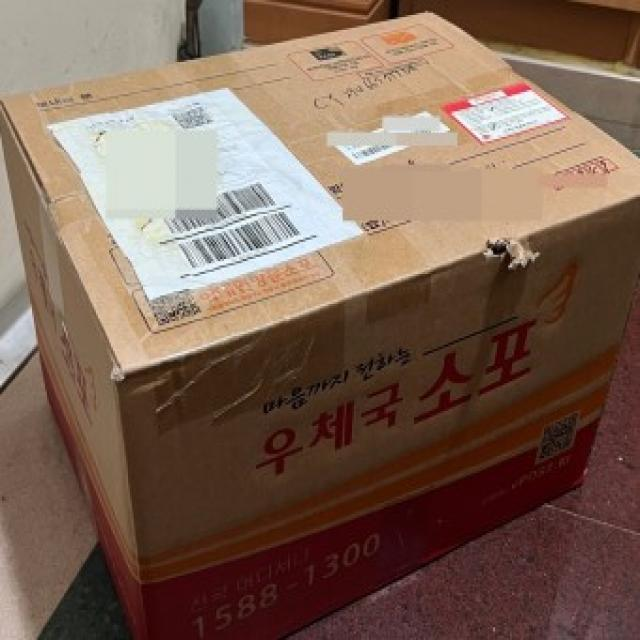damaged: (476, 233, 532, 276)
